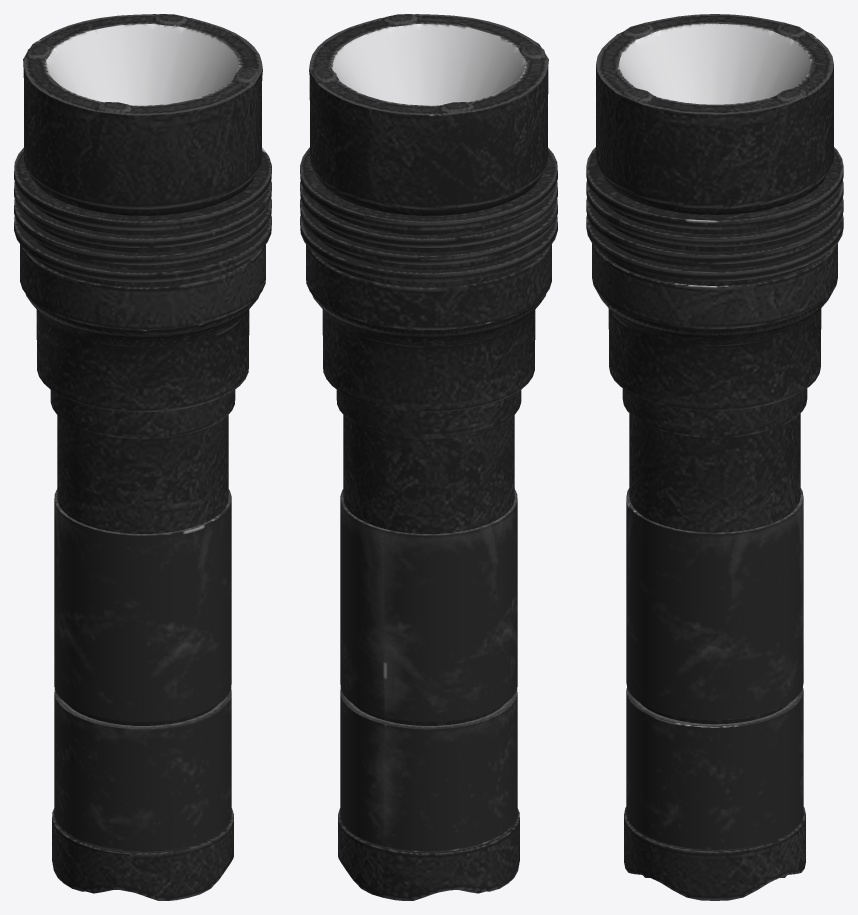
The model's file is flashlight.glb.
3 views of the same model, side by side, from view 1: azimuth 30°, elevation 25°; view 2: azimuth 150°, elevation 25°; view 3: azimuth 270°, elevation 25° (orthographic).
Parts seen in each view (by area): view 1: flashlight_high1; view 2: flashlight_high1; view 3: flashlight_high1.
Boxes of the visible parts, x1=… form: flashlight_high1: x1=14, y1=14, x2=271, y2=900; flashlight_high1: x1=300, y1=14, x2=557, y2=900; flashlight_high1: x1=586, y1=14, x2=843, y2=900.
Size of the model in its own units: 0.0783 by 0.2714 by 0.0783.
Materials: 1 (1 with a texture image).
